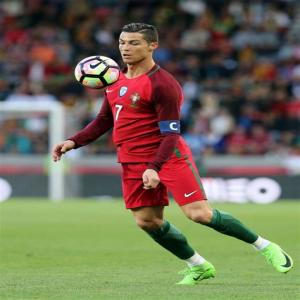Football: (75, 54, 120, 88)
